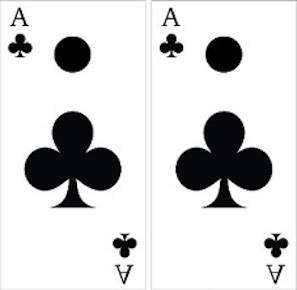AceOfClubs: (150, 1, 296, 288), (2, 2, 147, 288)
